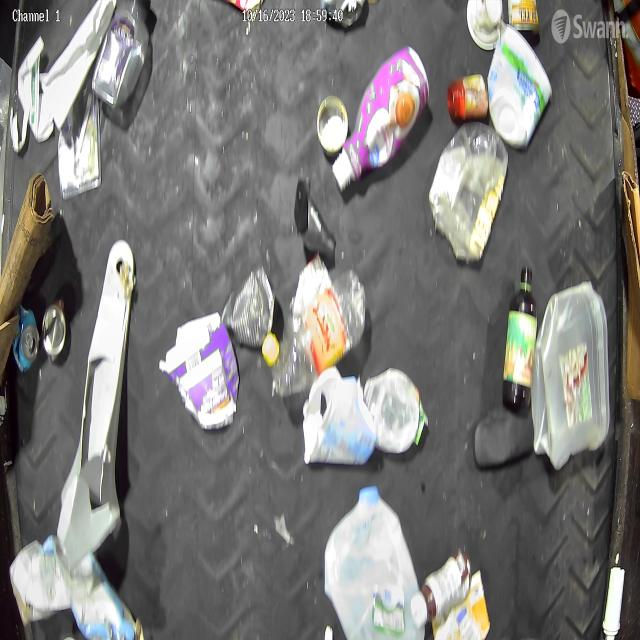can: (230, 268, 274, 348), (317, 95, 348, 156), (13, 308, 40, 372), (42, 302, 66, 362), (323, 0, 366, 28), (507, 0, 539, 37)
milk_jug: (324, 485, 427, 640), (533, 280, 610, 470), (40, 0, 116, 129)
non_white_jug: (332, 46, 430, 194), (160, 312, 240, 432)
plastic_bottle: (262, 271, 366, 398)
